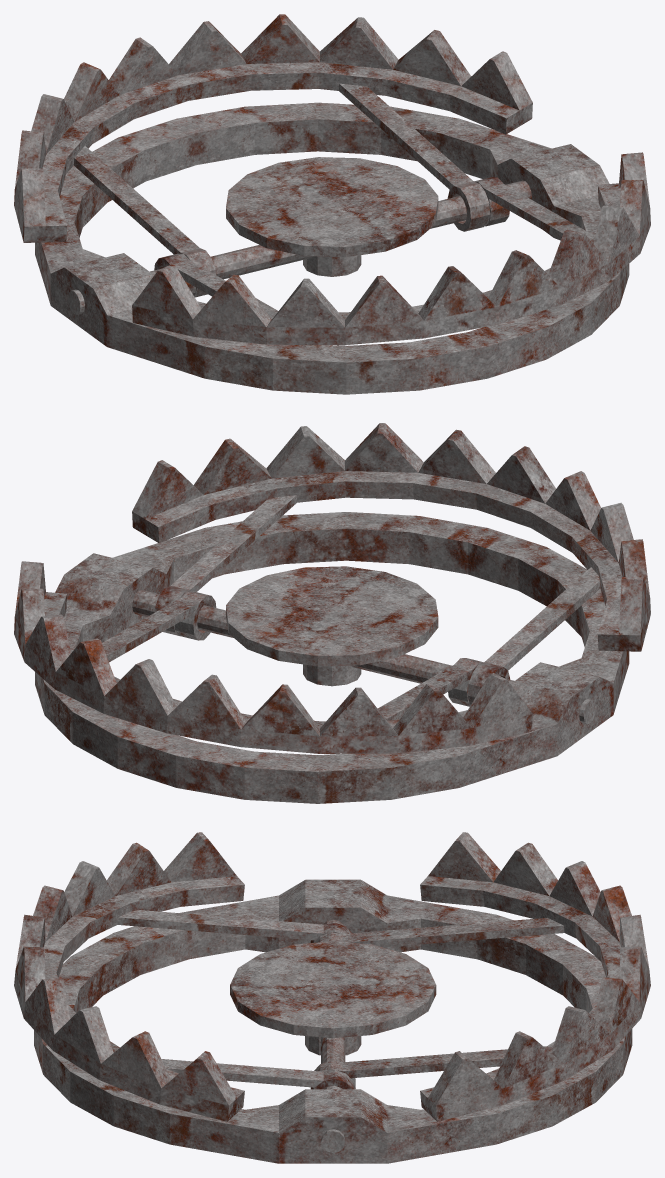
The model's file is Trap.fbx.
3 renders of one model, top to bottom at view 1: azimuth 30°, elevation 25°; view 2: azimuth 150°, elevation 25°; view 3: azimuth 270°, elevation 25°, orthographic. The views are drawn at different scales.
Visible parts, largest first — view 1: Circle, Circle.004, Circle.005, Circle.003, Circle.006, Circle.007, Circle.001, Circle.002; view 2: Circle, Circle.005, Circle.004, Circle.003, Circle.007, Circle.006, Circle.001, Circle.002; view 3: Circle, Circle.004, Circle.005, Circle.003, Circle.006, Circle.007, Circle.001, Circle.002.
Boxes of the visible parts, x1,y1,x2,y2 form: Circle: (35, 102, 629, 394); Circle.004: (14, 14, 532, 242); Circle.005: (132, 152, 650, 345); Circle.003: (226, 157, 438, 257); Circle.006: (73, 83, 490, 297); Circle.007: (154, 177, 594, 311); Circle.001: (68, 180, 531, 314); Circle.002: (303, 255, 361, 276); Circle: (35, 512, 629, 803); Circle.005: (132, 423, 650, 651); Circle.004: (14, 561, 532, 753); Circle.003: (226, 566, 438, 666); Circle.007: (154, 495, 600, 704); Circle.006: (102, 591, 483, 720); Circle.001: (132, 590, 596, 724); Circle.002: (303, 664, 361, 686); Circle: (34, 879, 632, 1163); Circle.004: (420, 832, 650, 1121); Circle.005: (14, 832, 244, 1121); Circle.003: (230, 941, 436, 1038); Circle.006: (310, 917, 564, 1088); Circle.007: (117, 910, 354, 1089); Circle.001: (321, 919, 345, 1152); Circle.002: (305, 1036, 361, 1055).
Bounding box in the file's own units: 210 × 45.9 × 234.
Materials: 1 (1 with a texture image).
